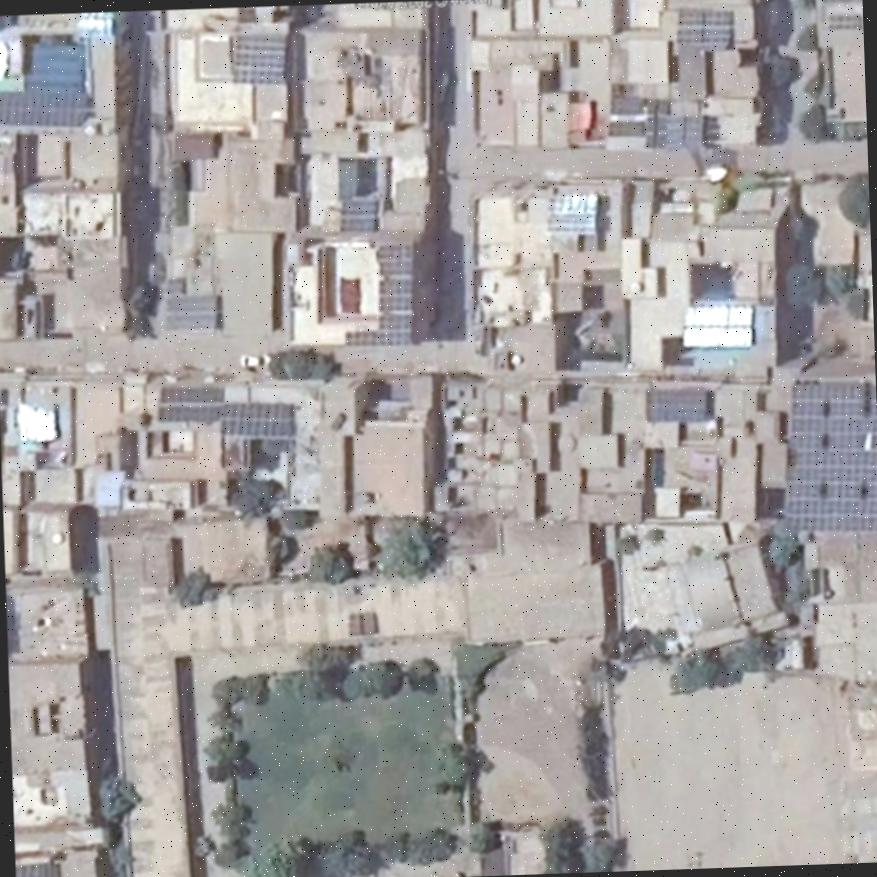Solarpanel: (787, 380, 877, 533), (344, 247, 414, 344), (683, 306, 751, 346), (0, 91, 82, 123), (235, 37, 286, 84), (219, 402, 293, 434), (156, 386, 222, 420), (678, 8, 730, 45), (648, 391, 707, 421), (164, 295, 214, 329), (547, 212, 593, 233), (16, 865, 47, 877)
